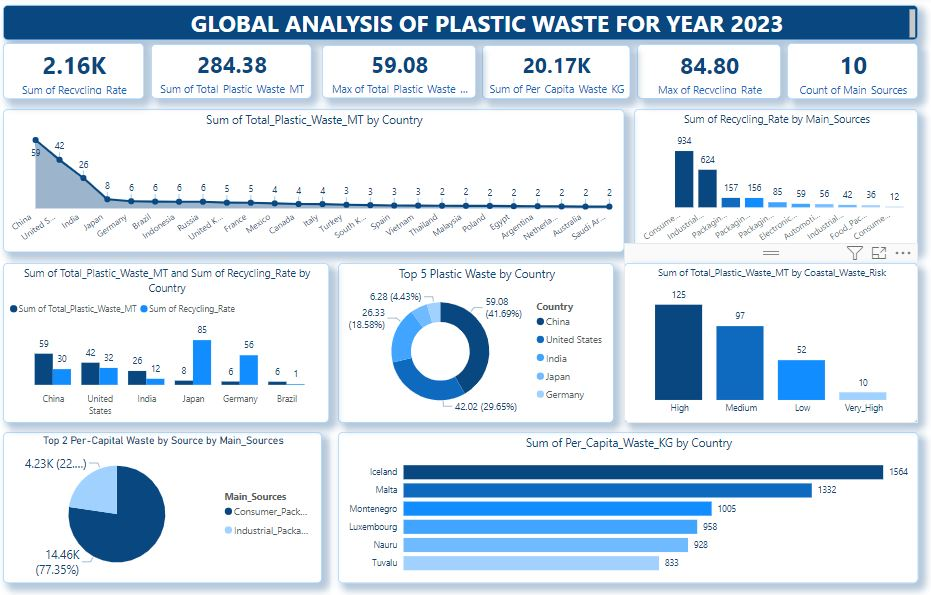

This screenshot's page, from the dashboard's own definition file:
{"tool":"powerbi","page":{"name":"Dashboard","canvas":[1300,890],"ordinal":0},"visuals":[{"type":"lineChart","fields":{"Category":["Plastic Waste Around the World.Country"],"Y":["Sum(Plastic Waste Around the World.Total_Plastic_Waste_MT)"]},"box":[11.1,144.4,862.5,198.6],"z":0},{"type":"donutChart","fields":{"Category":["Plastic Waste Around the World.Country"],"Y":["Sum(Plastic Waste Around the World.Total_Plastic_Waste_MT)"]},"box":[476.7,357.7,383.3,222.2],"z":1000},{"type":"clusteredColumnChart","fields":{"Category":["Plastic Waste Around the World.Main_Sources"],"Y":["Sum(Plastic Waste Around the World.Recycling_Rate)"]},"box":[887.5,144.4,394.4,198.6],"z":2000},{"type":"pieChart","fields":{"Category":["Plastic Waste Around the World.Main_Sources"],"Y":["Sum(Plastic Waste Around the World.Per_Capita_Waste_KG)"]},"box":[11.1,593.3,443.3,210],"z":3000},{"type":"barChart","fields":{"Category":["Plastic Waste Around the World.Country"],"Y":["Sum(Plastic Waste Around the World.Per_Capita_Waste_KG)"]},"box":[476.4,593.1,805.6,209.7],"z":4000},{"type":"clusteredColumnChart","fields":{"Y":["Sum(Plastic Waste Around the World.Total_Plastic_Waste_MT)"],"Category":["Plastic Waste Around the World.Coastal_Waste_Risk"]},"box":[873.6,358.3,408.3,222.2],"z":5000},{"type":"textbox","box":[11.1,0,1270.8,48.6],"z":6000},{"type":"clusteredColumnChart","fields":{"Category":["Plastic Waste Around the World.Country"],"Y":["Sum(Plastic Waste Around the World.Total_Plastic_Waste_MT)","Sum(Plastic Waste Around the World.Recycling_Rate)"]},"box":[11.1,357.7,453.3,222.2],"z":7000},{"type":"card","fields":{"Values":["Sum(Plastic Waste Around the World.Recycling_Rate)"]},"box":[11.1,52.8,195.8,77.8],"z":8000},{"type":"card","fields":{"Values":["Sum(Plastic Waste Around the World.Total_Plastic_Waste_MT)"]},"box":[216.7,54.4,223.3,75.6],"z":9000},{"type":"card","fields":{"Values":["Max(Plastic Waste Around the World.Recycling_Rate)"]},"box":[891.7,54.2,200,76.4],"z":10000},{"type":"card","fields":{"Values":["Sum(Plastic Waste Around the World.Per_Capita_Waste_KG)"]},"box":[676.4,55.6,205.6,75],"z":11000},{"type":"card","fields":{"Values":["Count(Plastic Waste Around the World.Main_Sources)"]},"box":[1100,52.8,181.9,77.8],"z":12000},{"type":"card","fields":{"Values":["Max(Plastic Waste Around the World.Total_Plastic_Waste_MT)"]},"box":[454.2,55.6,213.9,73.6],"z":13000}]}

Visuals, with their boxes on the page's 1300x890 design canvas (x1, y1, x2, y2). These are canvas units, not pixel positions in the 931x595 screenshot, which may show the page scaled, cropped or inside an application window:
lineChart - Plastic Waste Around the World.Country x Sum(Plastic Waste Around the World.Total_Plastic_Waste_MT): Rect(11, 144, 874, 343)
donutChart - Plastic Waste Around the World.Country x Sum(Plastic Waste Around the World.Total_Plastic_Waste_MT): Rect(477, 358, 860, 580)
clusteredColumnChart - Plastic Waste Around the World.Main_Sources x Sum(Plastic Waste Around the World.Recycling_Rate): Rect(888, 144, 1282, 343)
pieChart - Plastic Waste Around the World.Main_Sources x Sum(Plastic Waste Around the World.Per_Capita_Waste_KG): Rect(11, 593, 454, 803)
barChart - Plastic Waste Around the World.Country x Sum(Plastic Waste Around the World.Per_Capita_Waste_KG): Rect(476, 593, 1282, 803)
clusteredColumnChart - Sum(Plastic Waste Around the World.Total_Plastic_Waste_MT) x Plastic Waste Around the World.Coastal_Waste_Risk: Rect(874, 358, 1282, 580)
textbox: Rect(11, 0, 1282, 49)
clusteredColumnChart - Plastic Waste Around the World.Country x Sum(Plastic Waste Around the World.Total_Plastic_Waste_MT): Rect(11, 358, 464, 580)
card - Sum(Plastic Waste Around the World.Recycling_Rate): Rect(11, 53, 207, 131)
card - Sum(Plastic Waste Around the World.Total_Plastic_Waste_MT): Rect(217, 54, 440, 130)
card - Max(Plastic Waste Around the World.Recycling_Rate): Rect(892, 54, 1092, 131)
card - Sum(Plastic Waste Around the World.Per_Capita_Waste_KG): Rect(676, 56, 882, 131)
card - Count(Plastic Waste Around the World.Main_Sources): Rect(1100, 53, 1282, 131)
card - Max(Plastic Waste Around the World.Total_Plastic_Waste_MT): Rect(454, 56, 668, 129)
